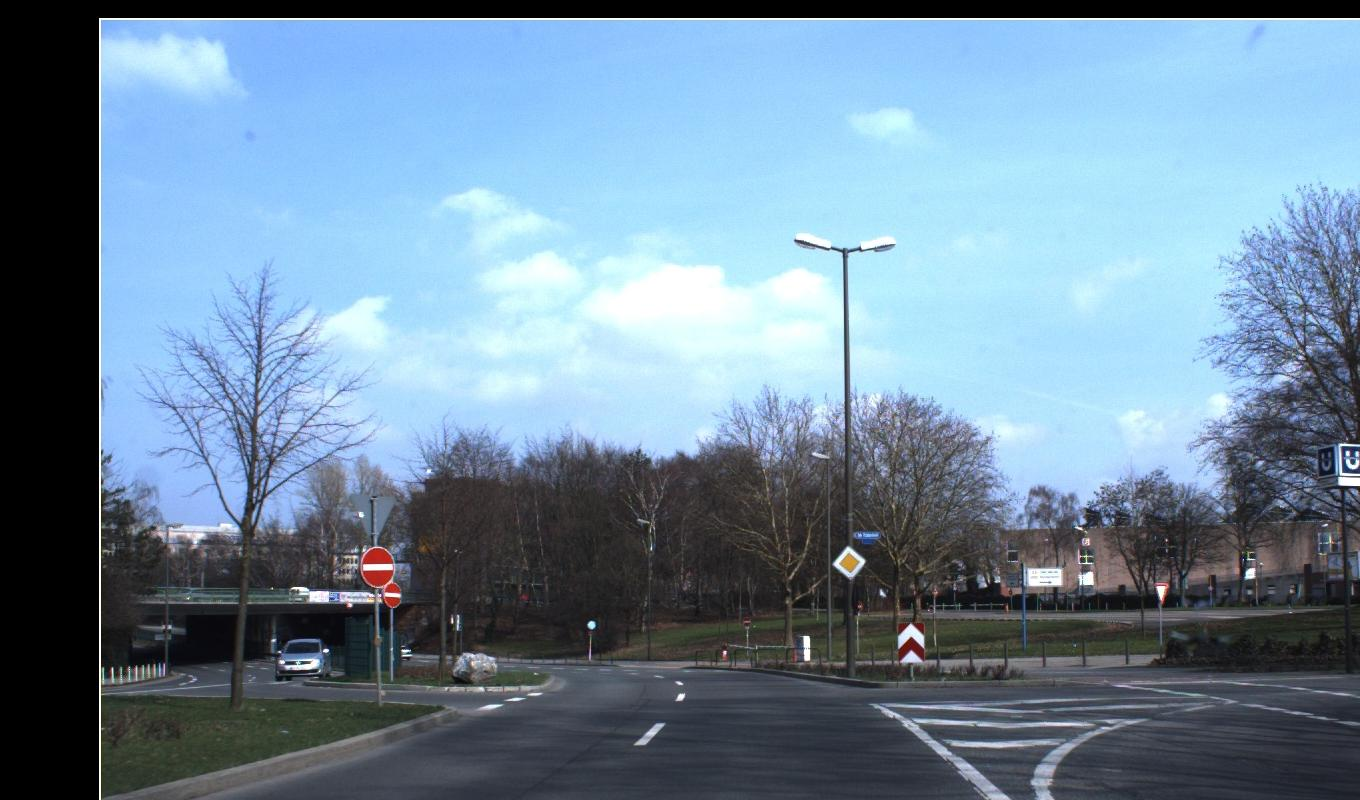priority road: (359, 544, 1170, 609)
